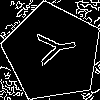Y: (27, 27, 78, 68)
